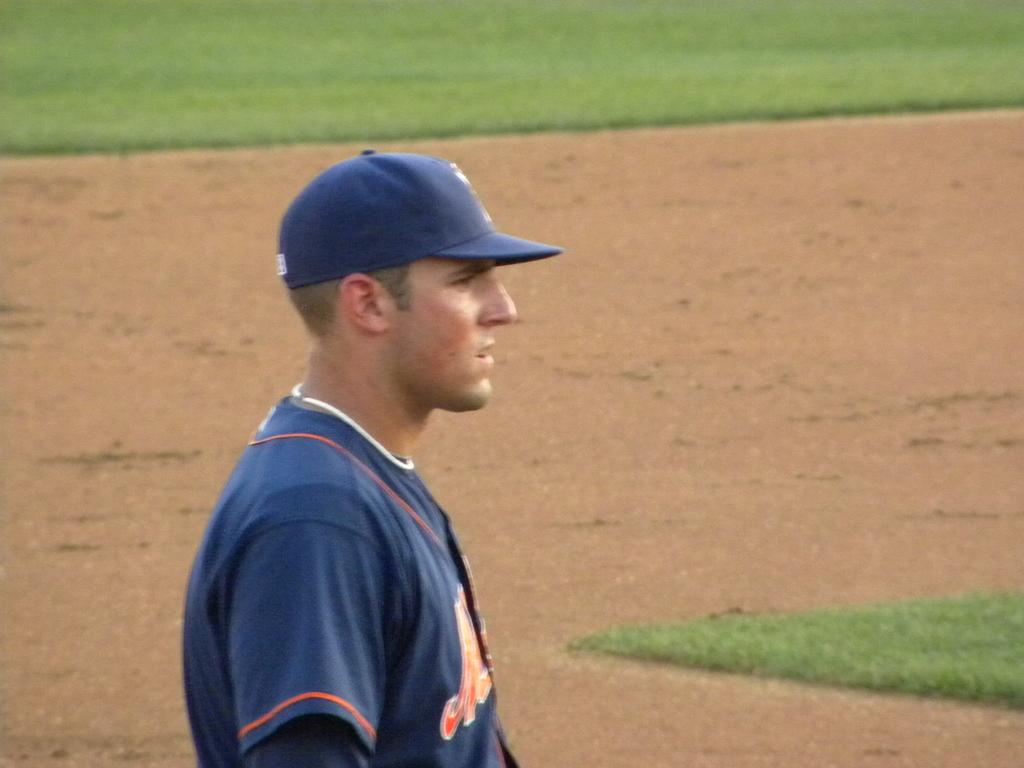Hat: (274, 146, 566, 292)
